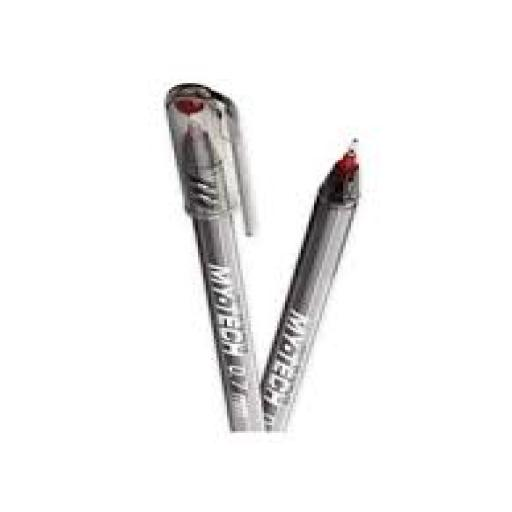tukenmez-kalem: (137, 94, 447, 412)
